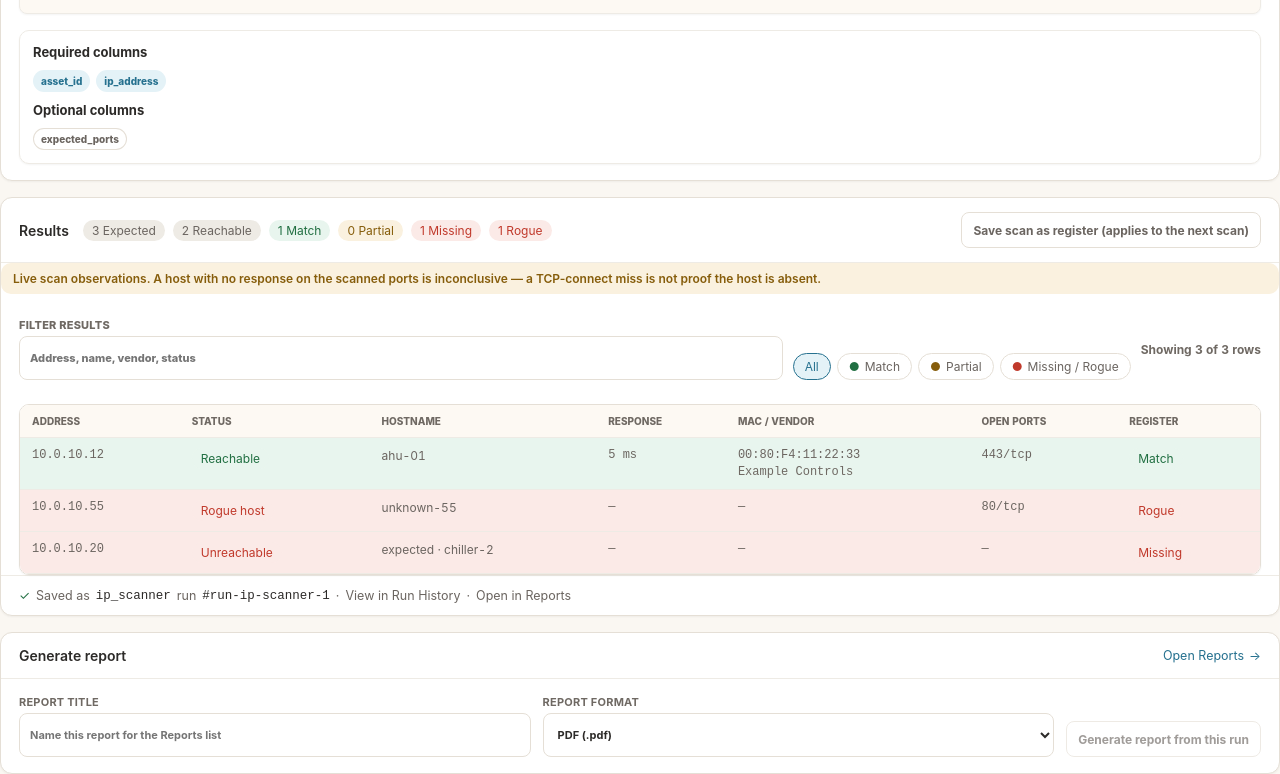
Scenario: IpScannerPage › says a missing device was expected and shows no observed evidence
(page scrolled)
Click the text "10.0.10.20". click: (640, 553)
box: [20, 532, 1260, 574]
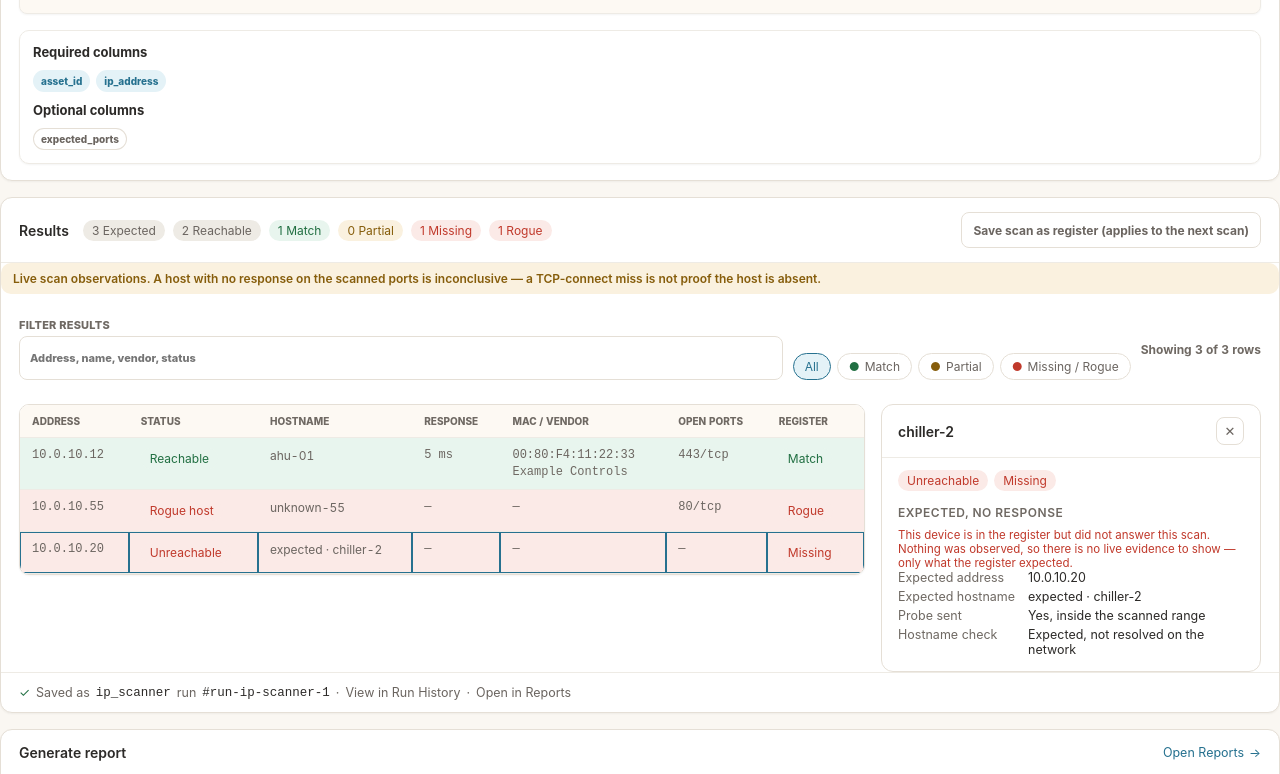
Check: the heading "Expected, no response" is shown, box [898, 505, 1063, 520]
Check: the text "expected · chiller-2" is shown, box [1028, 589, 1142, 604]
Check: the text "Expected, not resolved on the network" is shown, box [1028, 627, 1204, 657]
